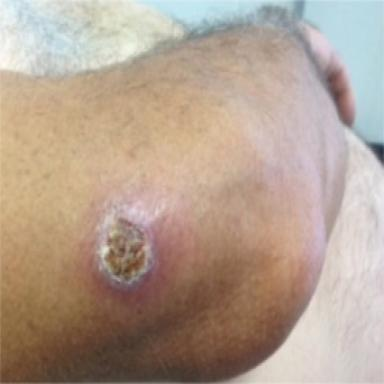Leishmanios: (92, 202, 163, 294)
